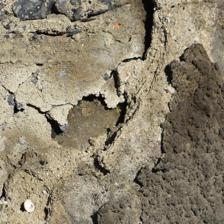Crack: (88, 12, 133, 81), (30, 63, 97, 99)
